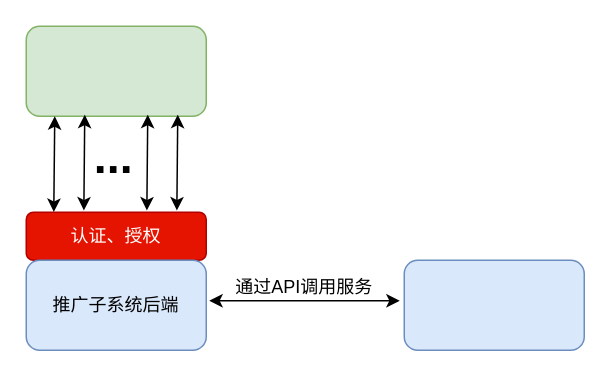
Image size: 611x377. Some labels were removed from this diagram. Each missing label, with the box of its shape:
用户请求: (25, 25, 206, 116)
短链子系统后端: (403, 259, 584, 350)
